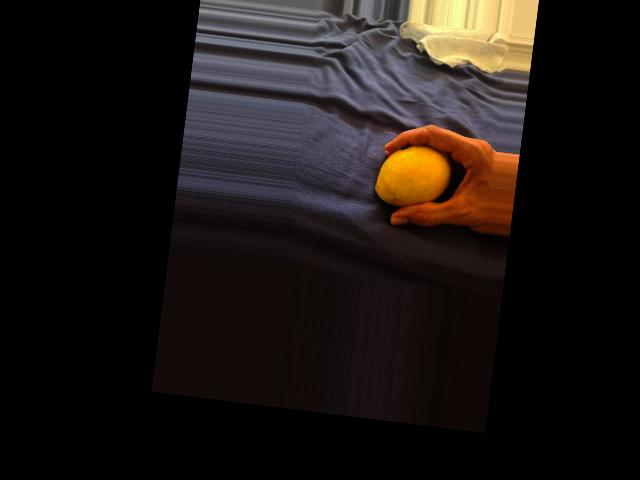lemon: (373, 134, 454, 211)
